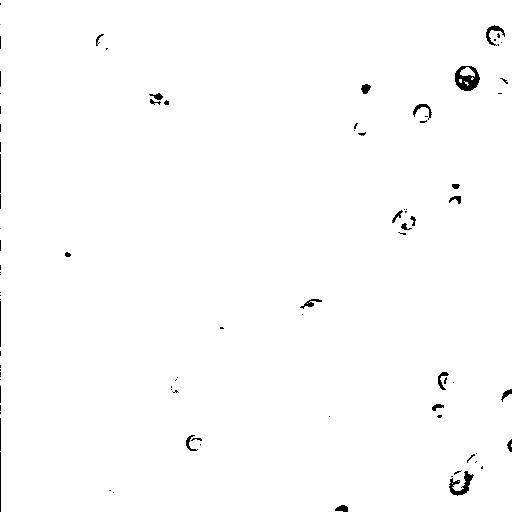micro-algae: (425, 417, 511, 511), (0, 199, 63, 276), (457, 5, 511, 76), (49, 233, 110, 292), (341, 199, 399, 254), (0, 35, 52, 85), (137, 0, 196, 32), (32, 0, 88, 33), (375, 13, 412, 54), (347, 71, 383, 106), (86, 176, 119, 210), (113, 336, 145, 368), (387, 207, 420, 236), (1, 109, 28, 143), (453, 63, 482, 91), (185, 161, 215, 188), (446, 469, 474, 497), (299, 296, 330, 321), (92, 486, 121, 511), (443, 171, 469, 197), (467, 452, 493, 477), (59, 243, 82, 271), (149, 87, 175, 111), (166, 375, 194, 397), (485, 75, 510, 97), (485, 25, 507, 47), (93, 29, 113, 52), (437, 370, 457, 390), (414, 102, 431, 125), (353, 117, 370, 138), (445, 193, 464, 211), (429, 400, 447, 419), (185, 433, 203, 450), (498, 389, 511, 411), (333, 502, 350, 511), (503, 437, 511, 454)
